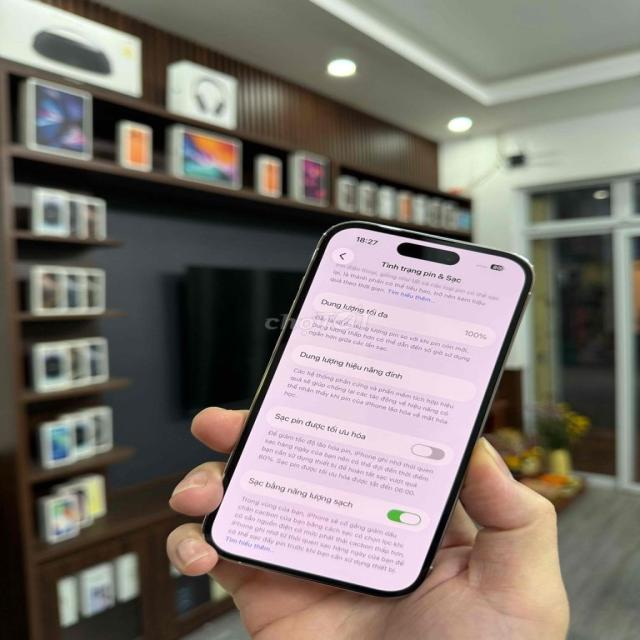gen_14: (200, 220, 543, 601)
